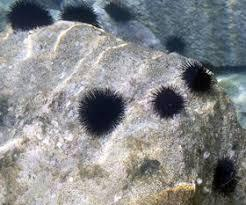urchin: (72, 85, 128, 140), (5, 0, 58, 33), (208, 150, 239, 198), (145, 84, 186, 119), (177, 61, 218, 93), (57, 3, 102, 32), (103, 1, 136, 25), (162, 32, 189, 56)
